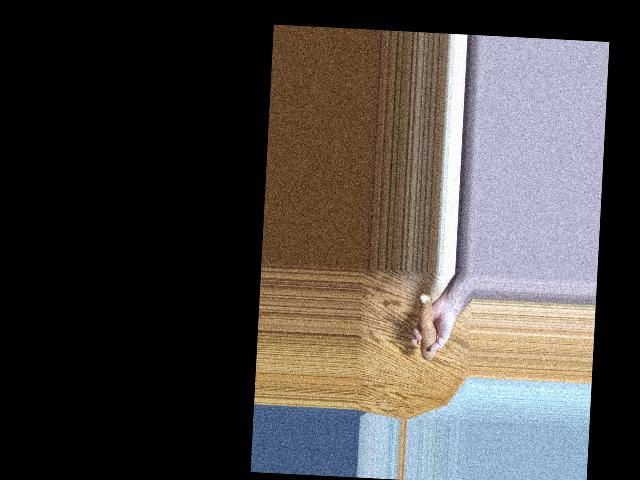sweet_potato: (415, 299, 440, 356)
